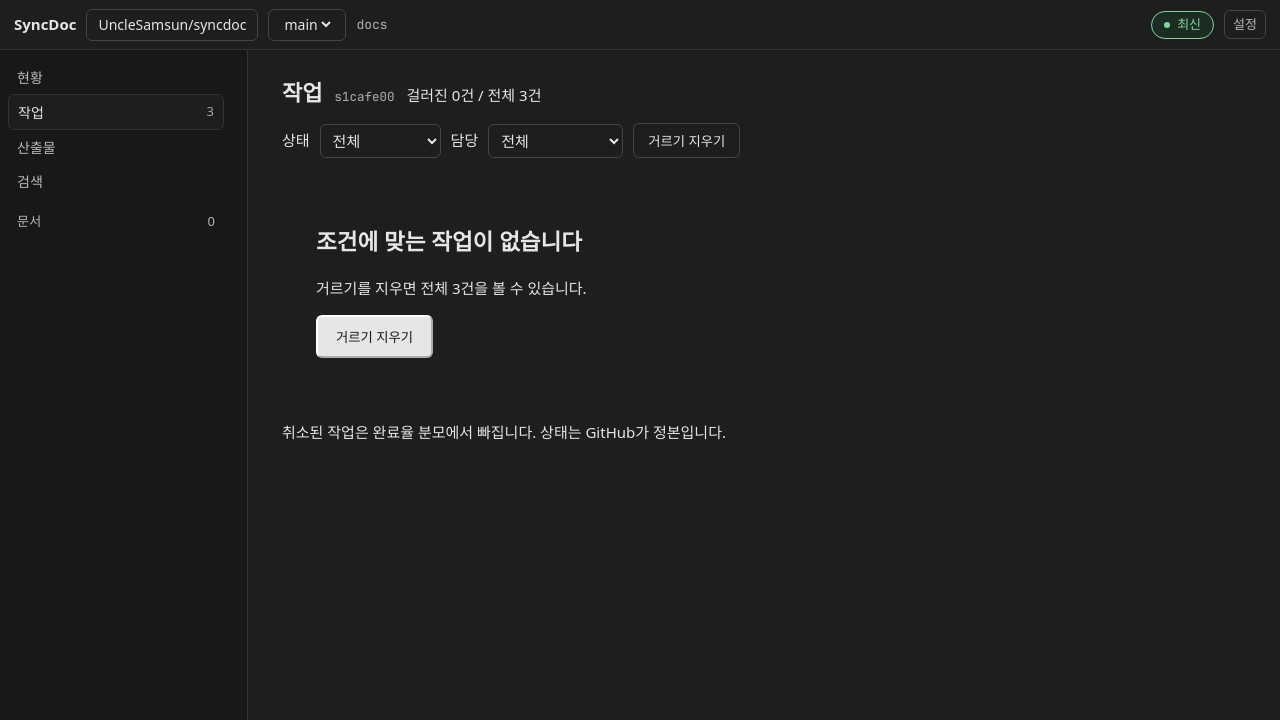
UI-014 작업 전체 목록 › does not leave the reader stuck when a filter matches nothing
Expected: the heading "조건에 맞는 작업이 없습니다" is shown, [316,226,582,257]
Click the button "거르기 지우기" next to "담당" at x=687, y=140, box [633,123,740,158]
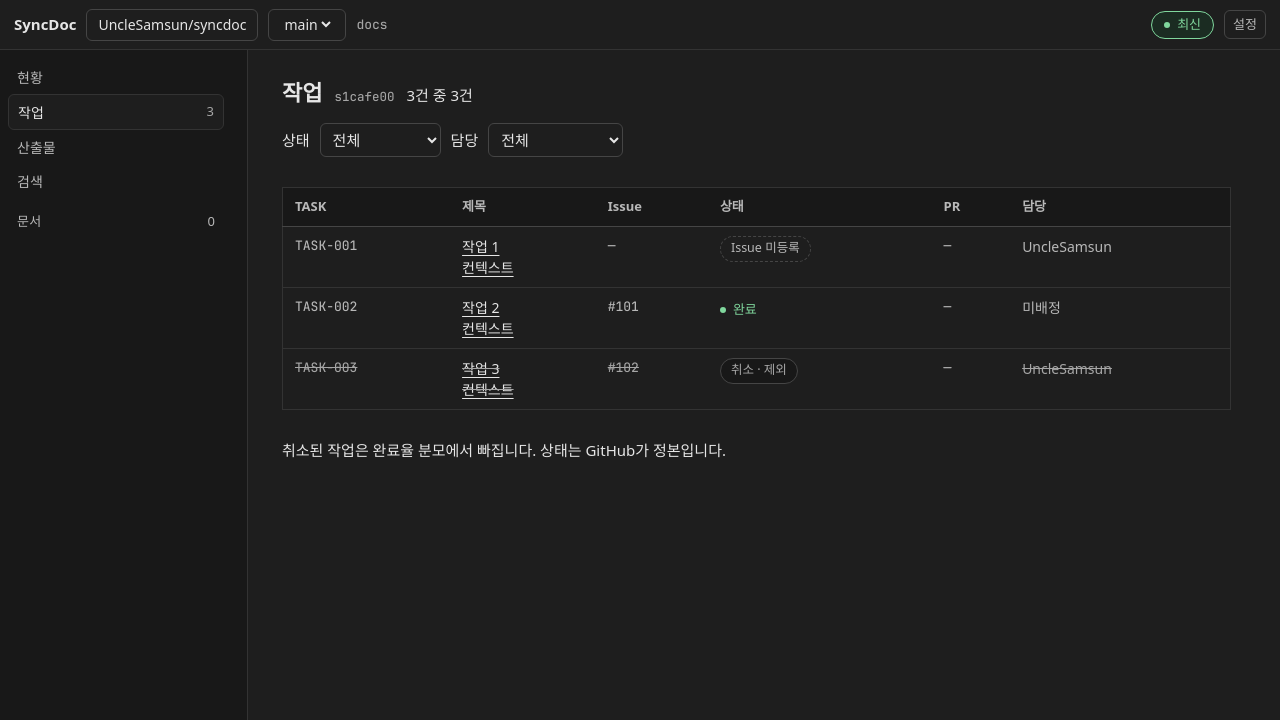
Expected: the text "TASK-001" is shown, [282,226,450,287]
